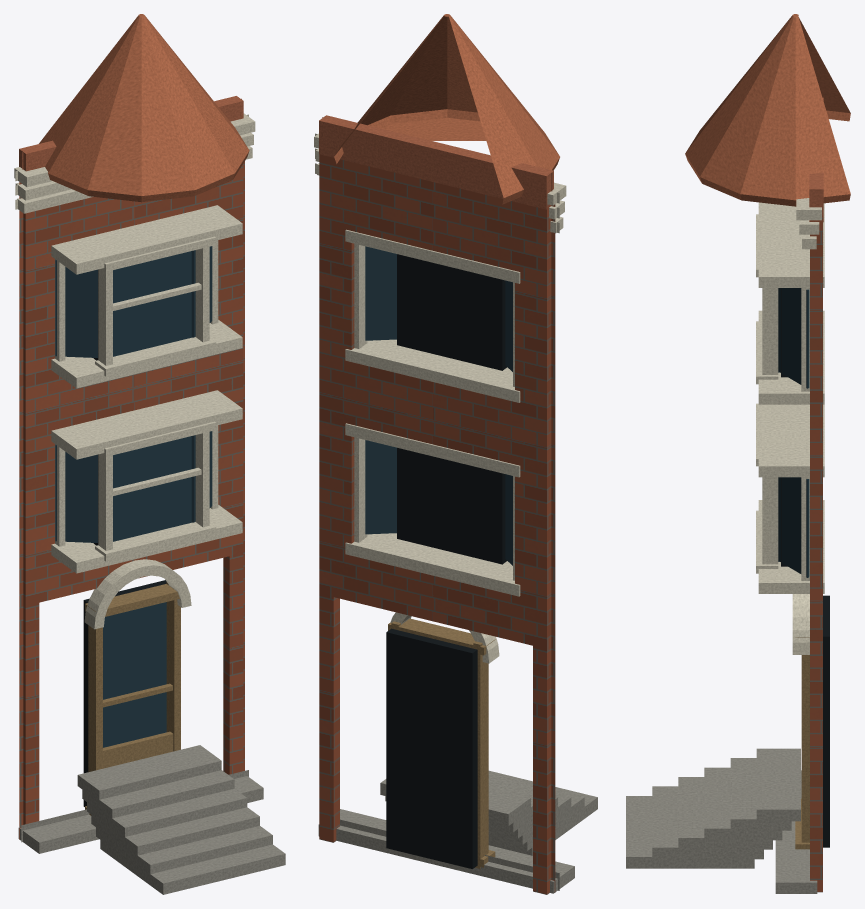
Rendered from VICT6A_lod2.glb.
3 renders of one model, left to right at view 1: azimuth 30°, elevation 25°; view 2: azimuth 150°, elevation 25°; view 3: azimuth 270°, elevation 25°, orthographic. The views are drawn at different scales.
Parts seen in each view (by area): view 1: VICT6A_FRONT_LOD2; view 2: VICT6A_FRONT_LOD2; view 3: VICT6A_FRONT_LOD2.
Part boxes in pixels (x1,y1,x2,y2): VICT6A_FRONT_LOD2: [14, 14, 285, 894]; VICT6A_FRONT_LOD2: [314, 14, 597, 894]; VICT6A_FRONT_LOD2: [626, 14, 850, 893].
Size of the model in its own units: 3.44 by 11.3 by 2.8.
9 materials, 7 textured.
